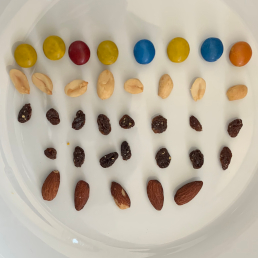almond: (173, 179, 204, 206), (41, 169, 61, 202), (110, 181, 132, 210), (146, 178, 164, 211), (73, 179, 90, 211)
mm: (228, 40, 253, 67), (200, 37, 224, 63), (133, 38, 156, 65), (14, 43, 38, 68), (42, 35, 66, 60), (68, 40, 91, 66), (167, 37, 190, 63), (96, 39, 119, 64)
peanut: (8, 67, 31, 95), (96, 69, 115, 101), (31, 72, 54, 97), (64, 78, 89, 98), (157, 73, 174, 99), (190, 77, 207, 101), (225, 84, 248, 101), (124, 77, 144, 94)
raisin: (96, 112, 112, 136), (155, 147, 172, 169), (99, 151, 119, 168), (17, 102, 32, 124), (71, 109, 86, 131), (189, 147, 204, 169), (219, 146, 232, 171), (151, 115, 168, 134), (227, 118, 243, 138), (72, 145, 85, 168), (118, 113, 135, 129), (45, 107, 60, 125), (120, 140, 132, 162), (189, 115, 203, 133), (43, 147, 58, 160)
